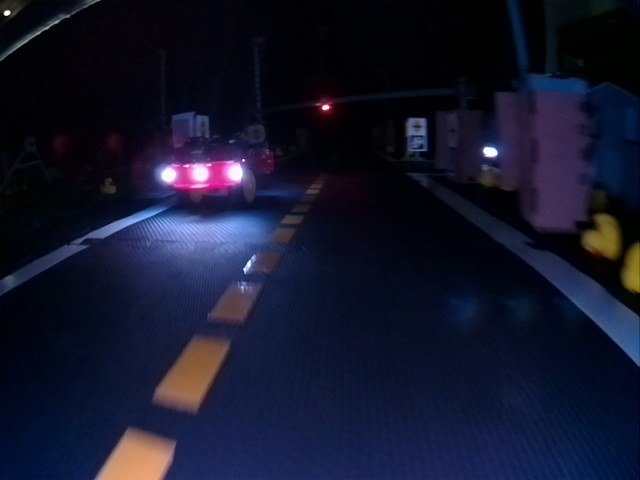Duckie: (581, 214, 620, 258), (622, 243, 640, 292), (101, 179, 116, 194)
Duckiebot: (161, 143, 264, 202)
Intersection sign: (411, 119, 424, 134)
QR code: (409, 135, 427, 150)
Traffic light: (320, 103, 331, 112)
